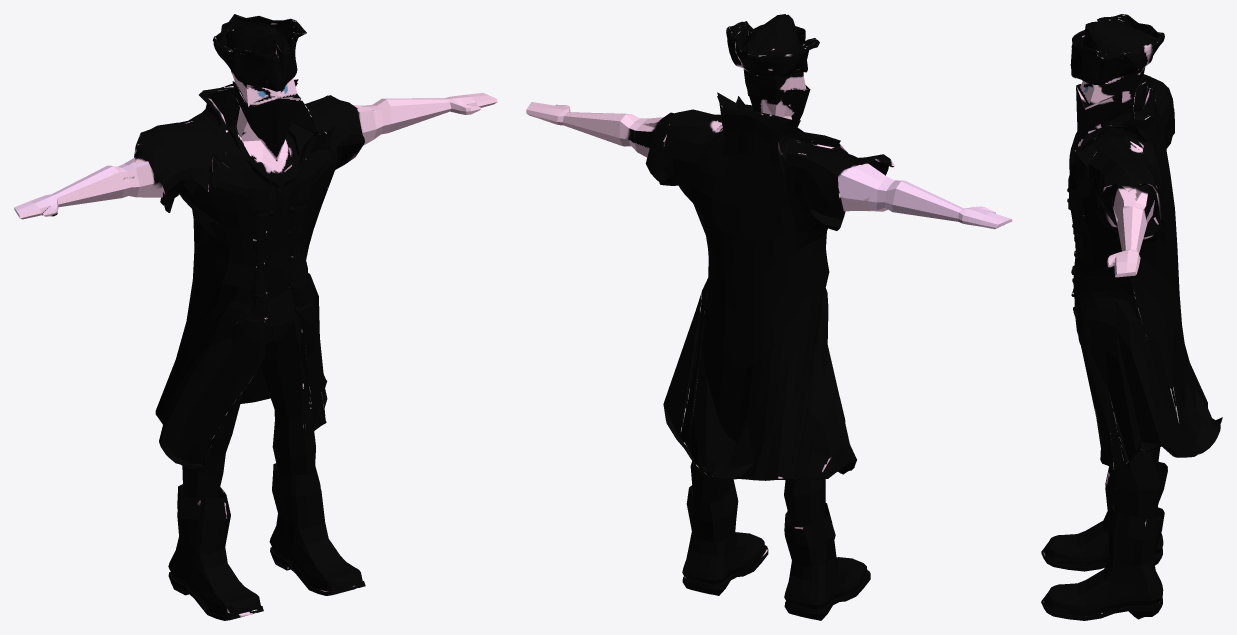
Rendered from bandit model THOMAS.fbx.
The picture shows the model from 3 angles, left to right: view 1: azimuth 30°, elevation 25°; view 2: azimuth 150°, elevation 25°; view 3: azimuth 270°, elevation 25°; orthographic projection.
Visible parts, largest first — view 1: bandit; view 2: bandit; view 3: bandit.
Part boxes in pixels (<box>): bandit: <box>14,14,497,620</box>; bandit: <box>526,14,1012,620</box>; bandit: <box>1041,14,1222,620</box>.
Bounding box in the file's own units: 417 × 476 × 138.
1 material, 1 textured.
